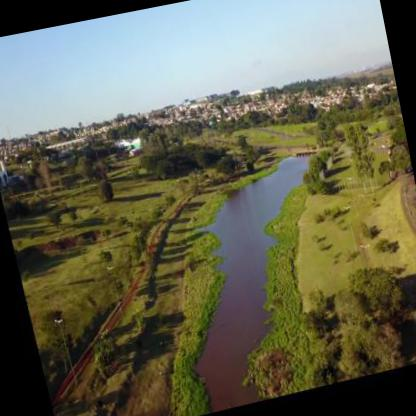agua: (208, 218, 268, 339), (218, 190, 274, 262), (202, 323, 246, 402), (266, 163, 296, 191), (254, 180, 278, 211)
